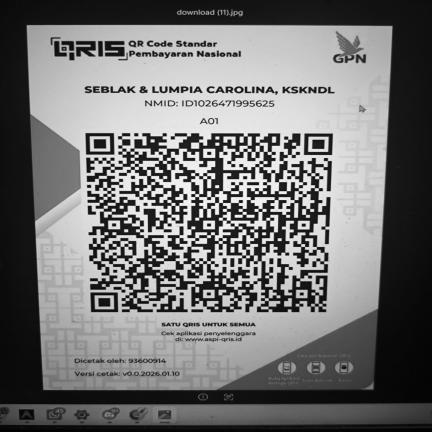Qris-Positioning: (28, 26, 391, 392)
